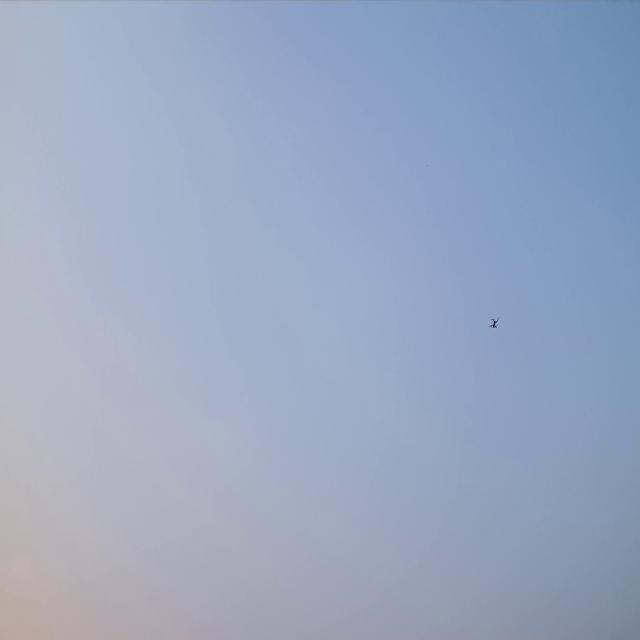UAV: (488, 316, 501, 330)
